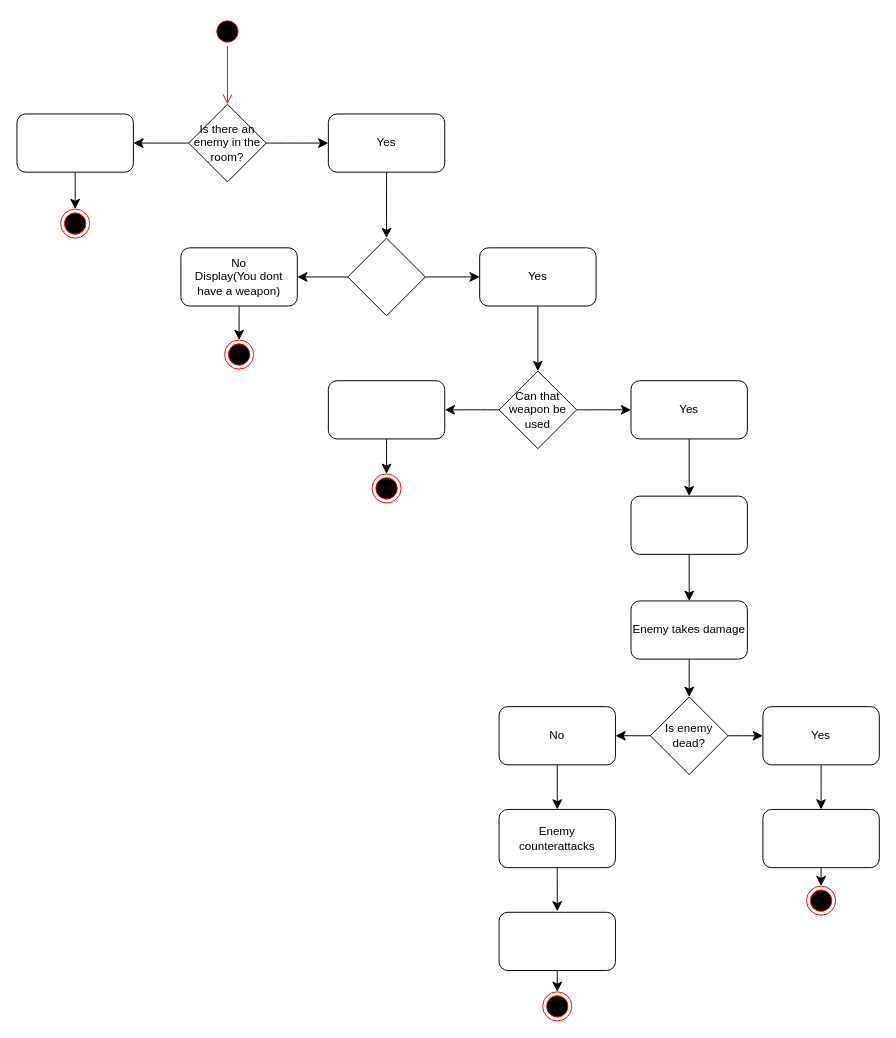
Image size: 896x1038. Some labels were removed from this diagram. Each missing label, with the centre of its shape:
"Does the player have a weapon?" goes at point (386, 276).
"No Display(That weapon cant be used)" goes at point (386, 409).
"No Display(There are no enemies to attack)" goes at point (74, 142).
"Player attacks enemy" goes at point (688, 524).
"Player takes damage" goes at point (556, 940).
"removing enemy from the room and droppings his/her items in that room" goes at point (820, 838).
